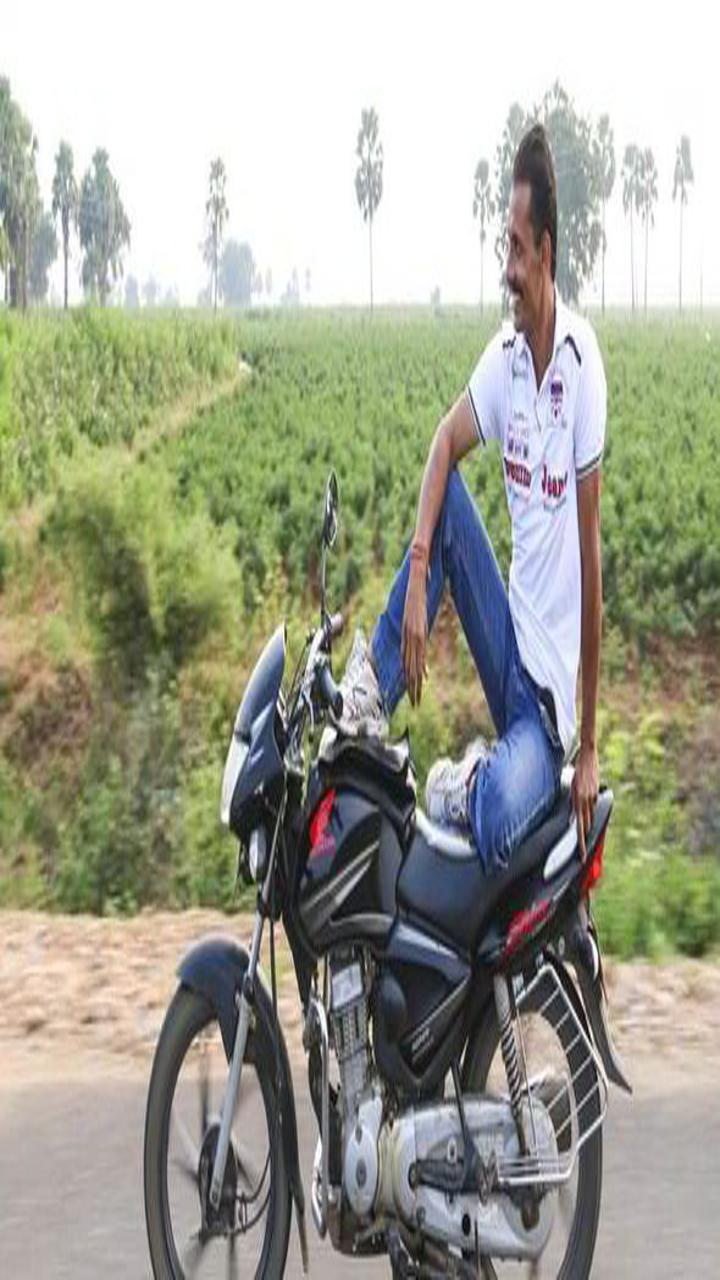cyclist: (396, 104, 627, 883)
motorcycle: (114, 633, 610, 1280)
